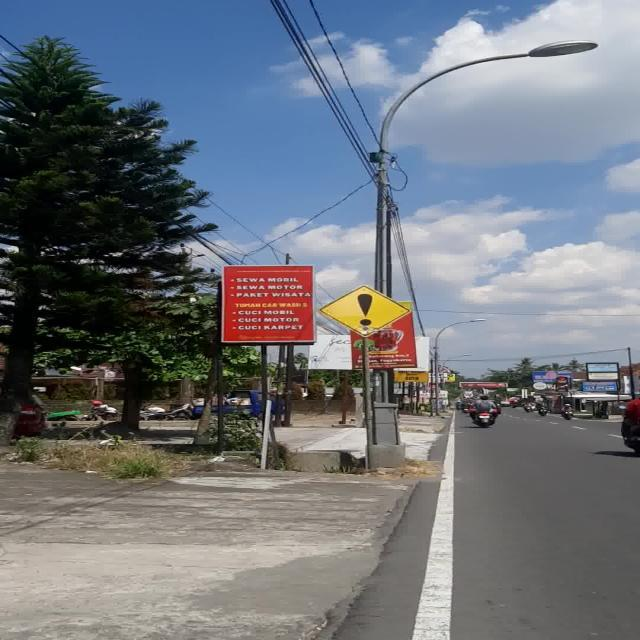Hati-Hati: (318, 284, 410, 338)
